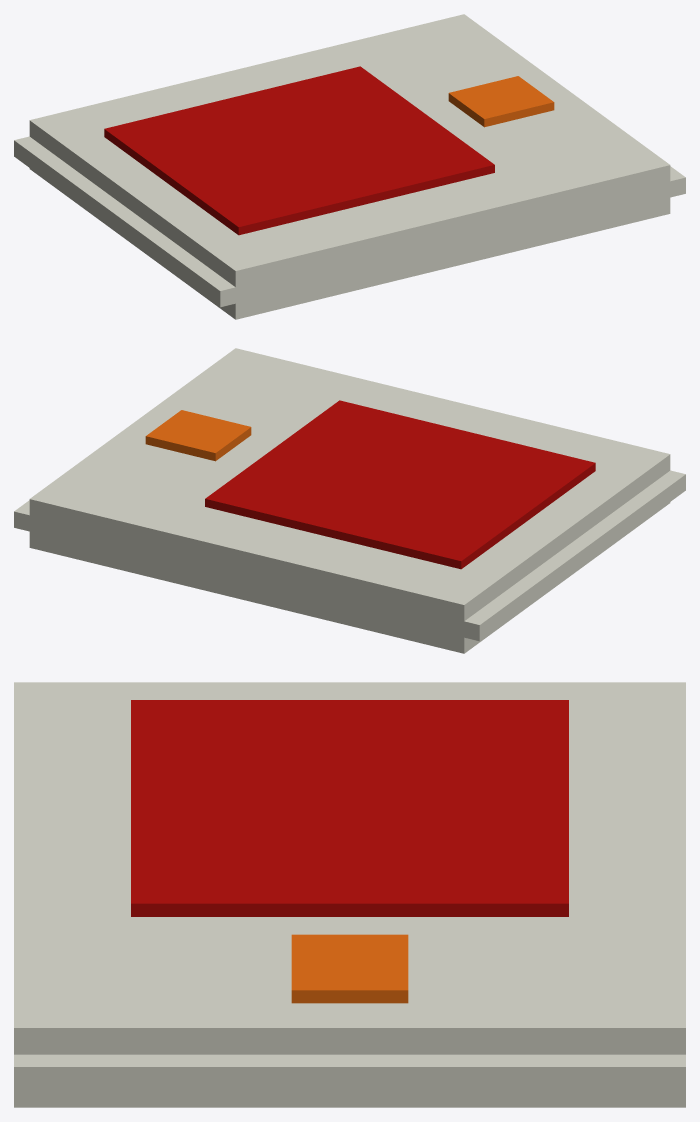
Rendered from heatpack.glb.
3 renders of one model, top to bottom at view 1: azimuth 30°, elevation 25°; view 2: azimuth 150°, elevation 25°; view 3: azimuth 270°, elevation 25°, orthographic. The views are drawn at different scales.
Parts seen in each view (by area): view 1: heatpack:compound; view 2: heatpack:compound; view 3: heatpack:compound.
Boxes of the visible parts, x1,y1,x2,y2 form: heatpack:compound: (14,14,685,319); heatpack:compound: (14,348,685,653); heatpack:compound: (14,682,685,1107).
Size of the model in its own units: 0.12 by 0.014 by 0.092.
